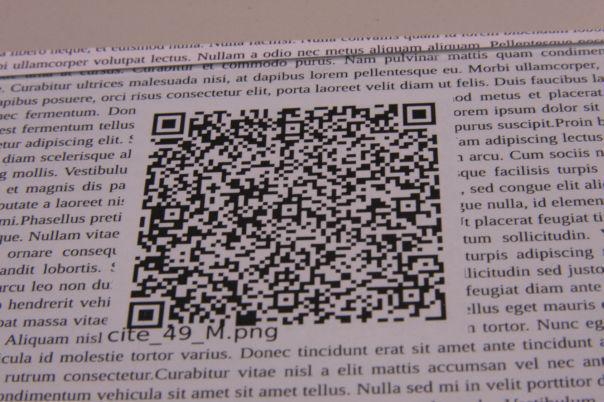Finder pattern: (125, 299, 166, 330), (400, 101, 440, 127), (150, 111, 186, 136)
